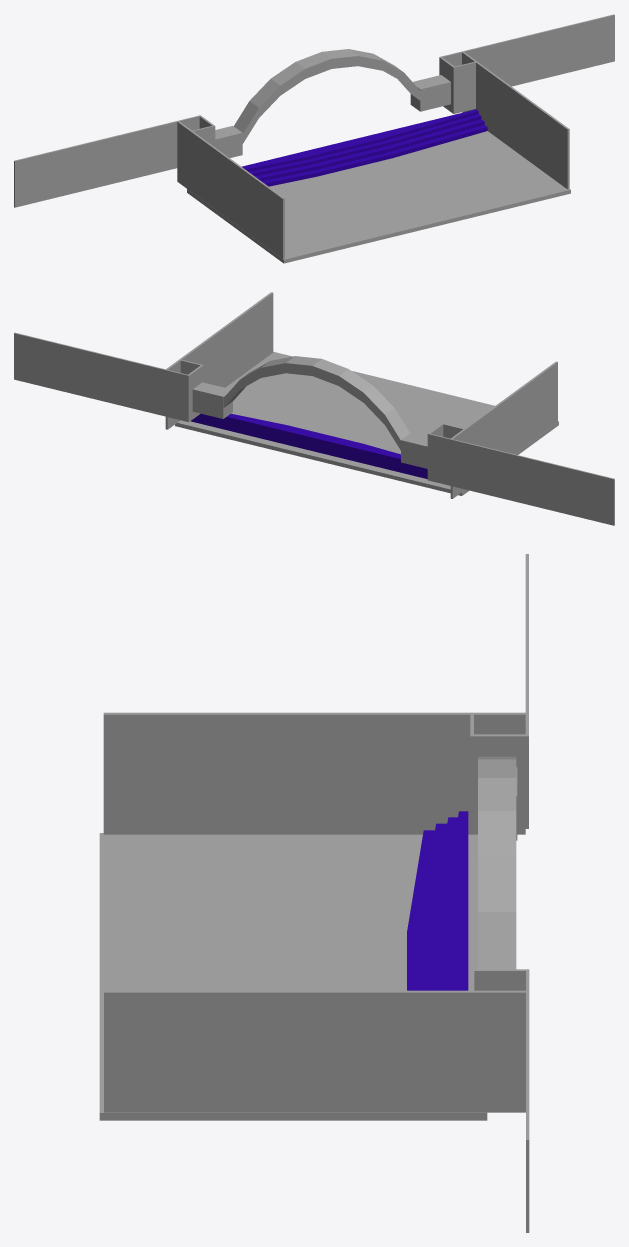
Rendered from Stage Area.fbx.
3 views of the same model, one above another, from view 1: azimuth 30°, elevation 25°; view 2: azimuth 150°, elevation 25°; view 3: azimuth 270°, elevation 25° (orthographic). The views are drawn at different scales.
Visible parts, largest first — view 1: arch:Base2; view 2: arch:Base2; view 3: arch:Base2.
Boxes of the visible parts, <box> form: arch:Base2: <box>14,14,614,263</box>; arch:Base2: <box>14,292,614,525</box>; arch:Base2: <box>99,554,529,1232</box>.
Size of the model in its own units: 7599 by 1220 by 2355.
